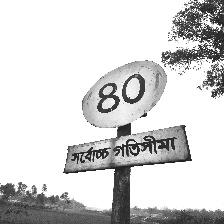Speed-limit: (66, 59, 189, 174)
